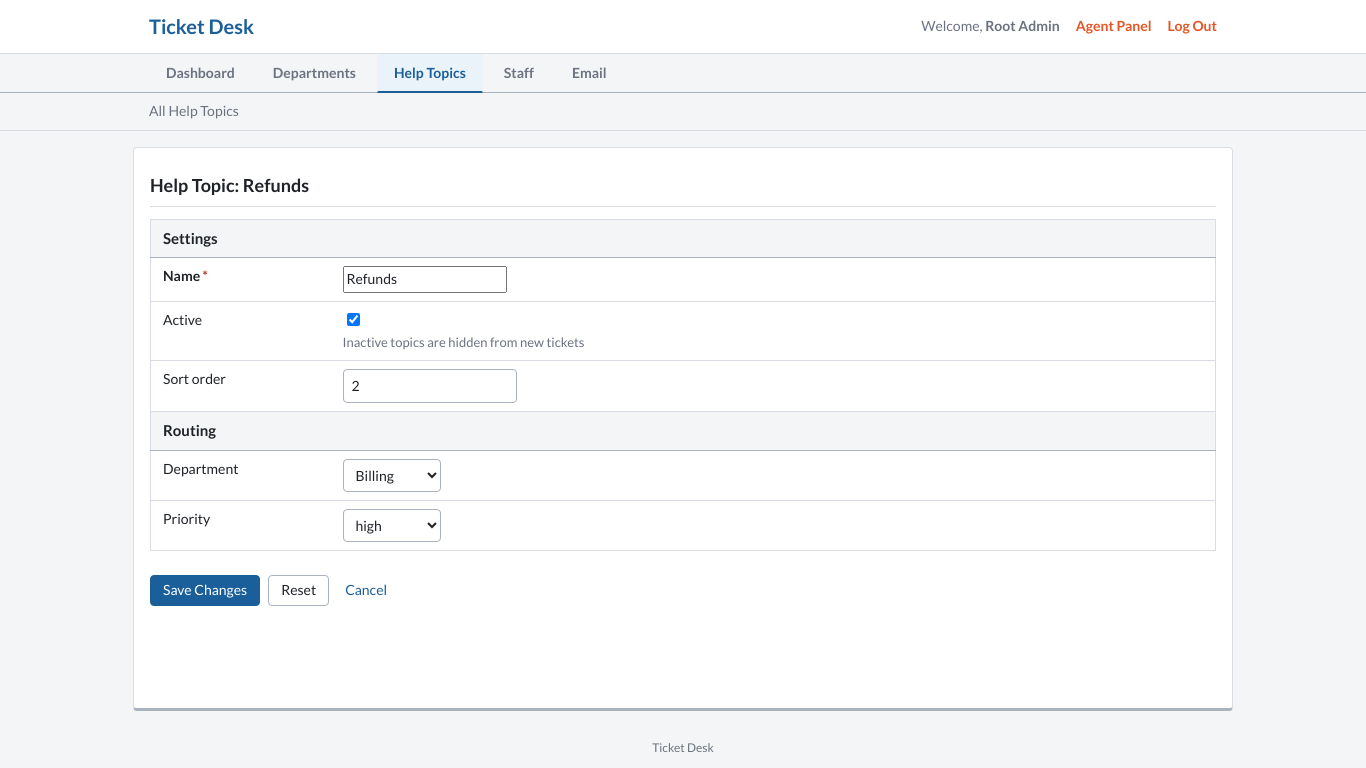
Scenario: edit seeds the form, sends only changed fields, and stays on the form
Check: the heading "Help Topic: Refunds" is shown, box [150, 172, 309, 198]
Check: the field labelled "Name*" holds "Refunds", box [342, 266, 506, 293]
Select "— none —" in the dropdown labelled "Department" at (392, 475), box [342, 459, 440, 492]
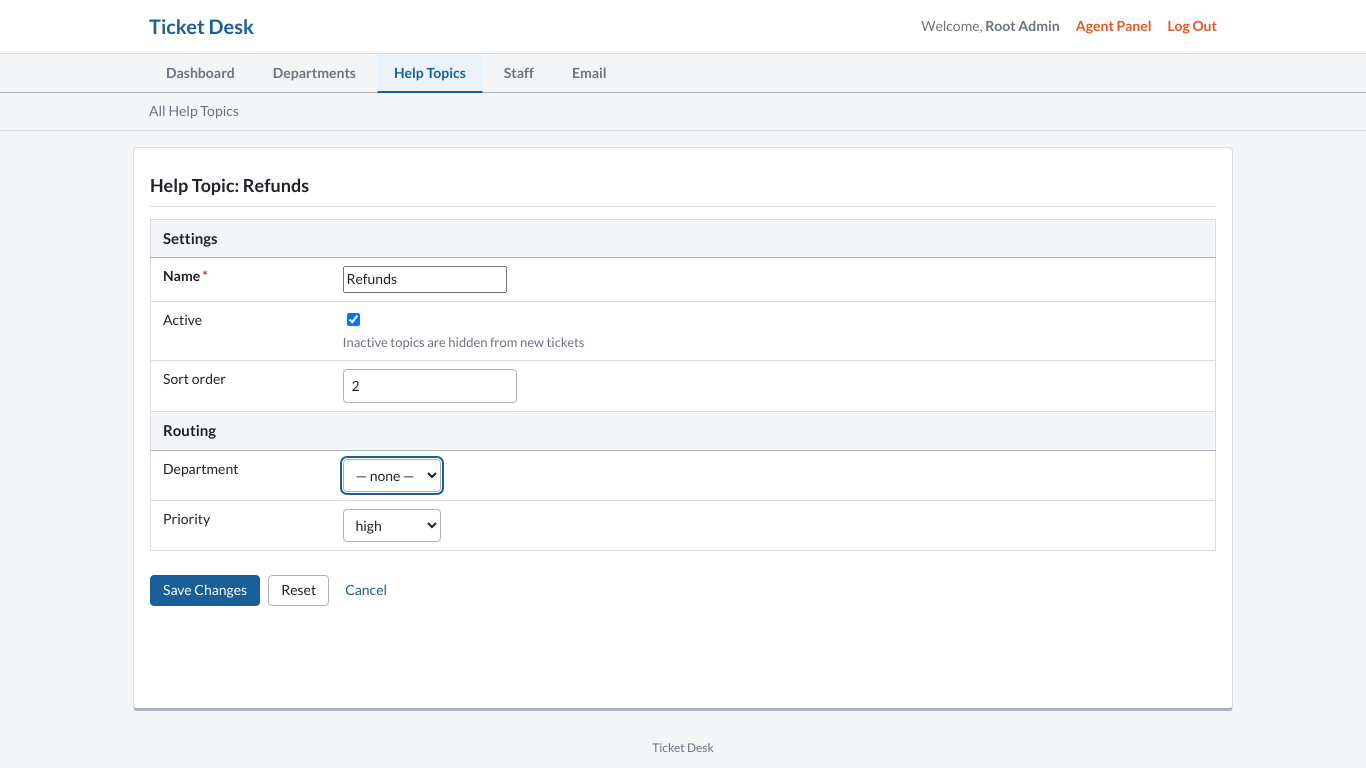
Click the button "Save Changes" at (205, 590), box [150, 575, 260, 606]
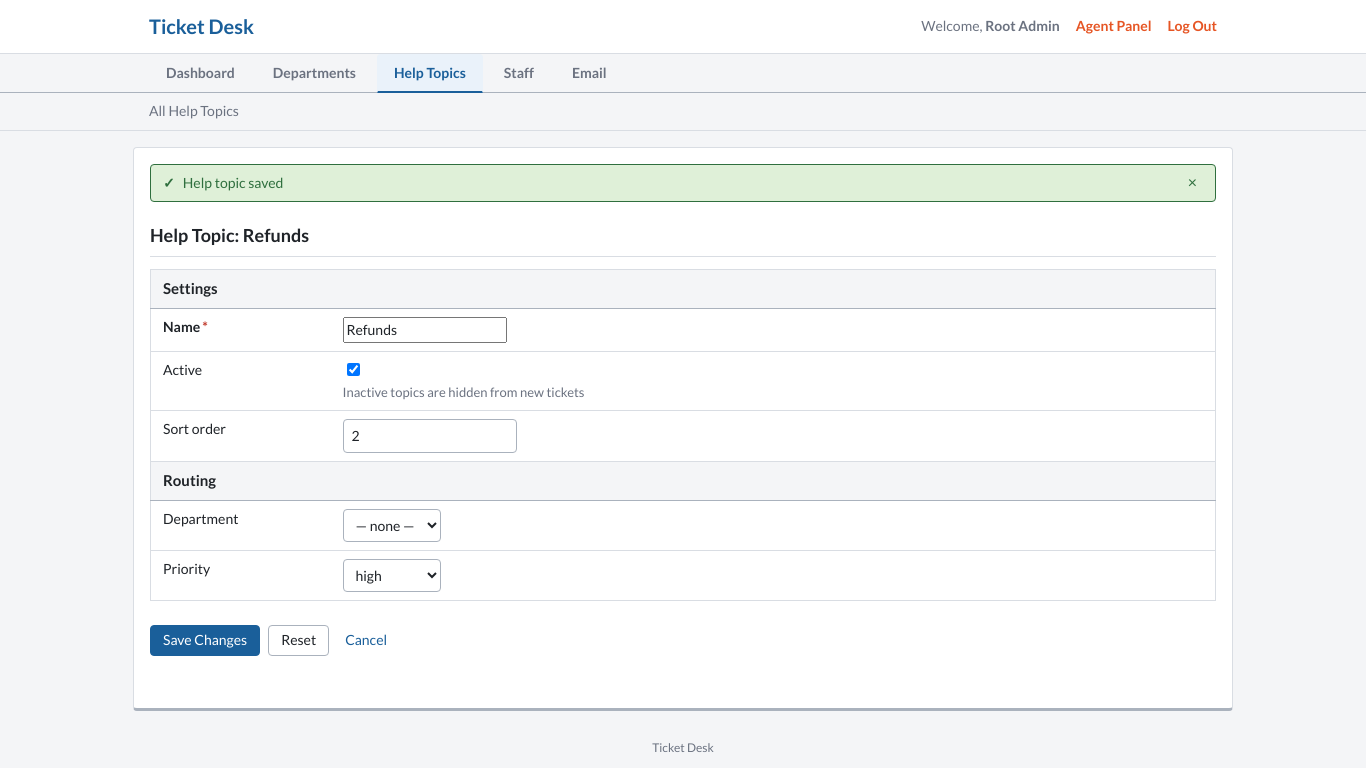
Check: the heading "Help Topic: Refunds" is shown, box [150, 222, 309, 248]
Check: the message shows "Help topic saved", box [183, 174, 283, 191]
